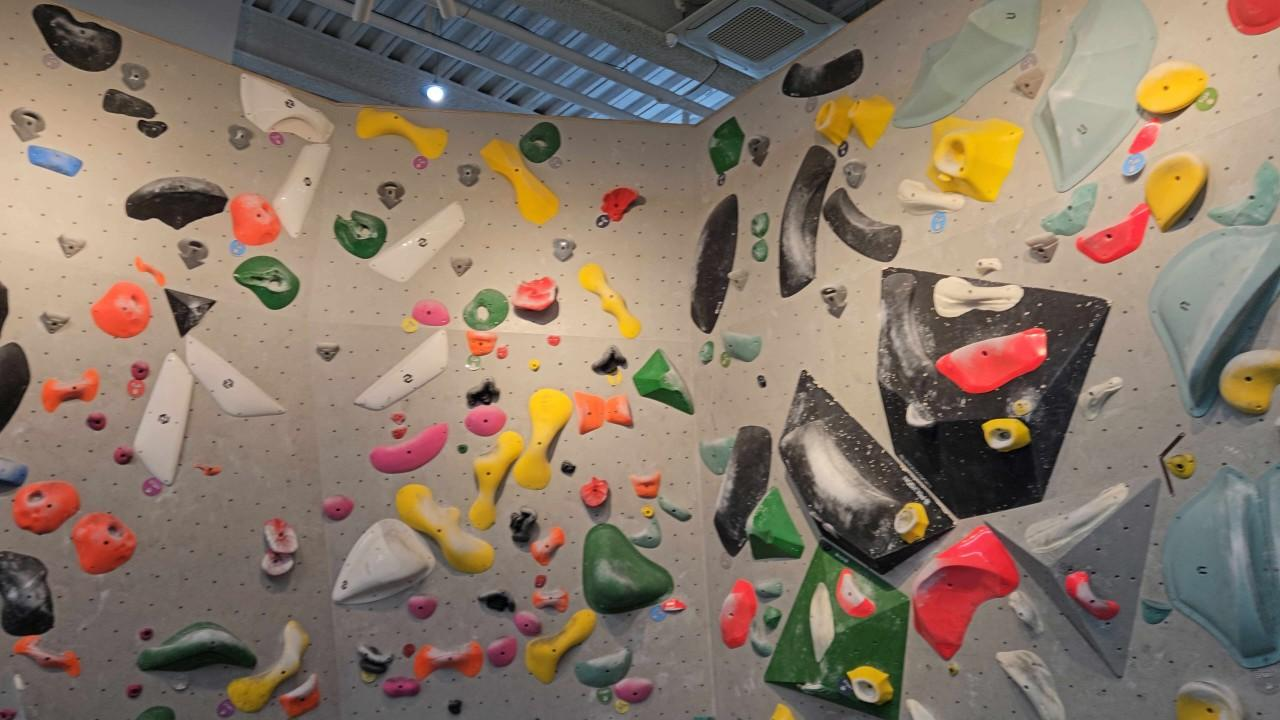hold: (1150, 224, 1279, 416), (1163, 462, 1279, 668), (1032, 0, 1155, 191), (895, 0, 1039, 127), (910, 525, 1019, 660), (1025, 483, 1134, 564), (334, 518, 436, 603), (396, 485, 492, 573), (183, 333, 284, 416), (780, 144, 835, 296), (583, 524, 673, 613), (929, 116, 1022, 201), (135, 351, 193, 486), (365, 202, 462, 282), (227, 620, 309, 711), (714, 426, 771, 556), (354, 331, 447, 410), (936, 328, 1047, 393), (239, 71, 336, 141), (691, 194, 738, 333), (481, 140, 557, 224), (511, 388, 573, 489), (32, 5, 122, 71), (271, 144, 333, 239), (137, 622, 256, 670), (824, 188, 902, 261), (468, 431, 524, 529), (126, 176, 228, 229), (526, 609, 596, 683), (579, 263, 642, 341), (1145, 153, 1208, 231), (996, 650, 1065, 719), (355, 108, 448, 159), (1208, 160, 1279, 226), (0, 551, 54, 636), (1076, 201, 1150, 263), (72, 513, 137, 574), (632, 349, 692, 414), (747, 488, 803, 557), (782, 49, 862, 97), (1220, 350, 1279, 414), (371, 423, 448, 472), (1137, 61, 1208, 113), (934, 276, 1023, 317), (234, 257, 299, 312), (13, 481, 79, 534), (90, 281, 151, 337), (1041, 184, 1097, 235), (229, 193, 282, 245), (13, 635, 80, 676), (413, 641, 483, 680), (1175, 680, 1244, 719), (719, 579, 758, 648), (42, 368, 99, 415), (1065, 571, 1119, 620), (0, 342, 30, 430), (165, 288, 215, 336), (334, 211, 386, 257), (574, 648, 632, 688), (848, 95, 892, 147), (261, 518, 297, 579), (898, 179, 966, 211), (709, 117, 745, 175), (463, 288, 509, 331), (809, 582, 834, 661), (836, 568, 875, 617), (1227, 0, 1279, 35), (278, 674, 319, 717), (27, 144, 82, 176), (815, 97, 852, 144), (1082, 377, 1122, 420), (1007, 587, 1043, 634), (518, 122, 560, 162), (848, 666, 892, 704), (983, 418, 1031, 451), (103, 89, 156, 118), (573, 392, 607, 436), (511, 277, 556, 310), (894, 502, 928, 543), (602, 186, 639, 221), (699, 437, 734, 474), (465, 405, 506, 436), (531, 527, 564, 565), (510, 507, 538, 550), (1012, 63, 1044, 99), (12, 107, 45, 141), (1127, 121, 1160, 153), (723, 334, 760, 362), (466, 378, 500, 408), (411, 300, 450, 326), (591, 347, 627, 375), (627, 518, 660, 548), (358, 646, 393, 674), (614, 678, 653, 703), (1026, 232, 1058, 262), (486, 636, 517, 666), (177, 238, 208, 268), (531, 589, 569, 612), (820, 284, 846, 317), (134, 257, 165, 284), (322, 495, 354, 521), (657, 496, 690, 521), (580, 477, 608, 506), (382, 676, 420, 697), (630, 471, 661, 496), (606, 397, 632, 426), (122, 63, 149, 90), (1141, 599, 1171, 623), (407, 595, 437, 619), (478, 591, 515, 610), (377, 181, 403, 208), (467, 330, 495, 355), (1164, 454, 1193, 478), (57, 234, 86, 257), (748, 135, 769, 166), (513, 611, 541, 634), (39, 312, 69, 333), (228, 124, 253, 149), (843, 161, 866, 188), (751, 631, 774, 657), (137, 120, 167, 138), (755, 580, 783, 599), (457, 163, 480, 186), (135, 706, 175, 719), (553, 240, 576, 261), (751, 212, 769, 238), (976, 258, 1002, 276), (1017, 49, 1037, 72), (770, 702, 797, 719), (315, 343, 340, 361), (728, 269, 749, 290), (1010, 398, 1034, 416), (660, 597, 686, 613), (763, 606, 781, 629), (85, 412, 106, 430), (451, 257, 472, 275), (0, 283, 8, 330), (113, 445, 132, 464), (699, 341, 714, 364), (130, 361, 148, 379), (752, 239, 766, 260), (195, 464, 221, 475), (125, 683, 142, 698), (560, 462, 575, 475), (448, 701, 462, 714), (392, 427, 407, 439), (139, 628, 152, 640), (402, 644, 415, 656), (947, 663, 959, 676), (391, 412, 405, 423), (0, 709, 15, 719), (535, 574, 546, 587), (497, 345, 507, 358), (642, 505, 653, 516), (529, 359, 540, 370), (757, 375, 766, 387), (548, 335, 559, 344), (693, 716, 715, 719), (457, 445, 467, 451)
volume: (877, 268, 1107, 517), (980, 477, 1162, 686), (779, 372, 952, 569), (764, 546, 909, 719)
